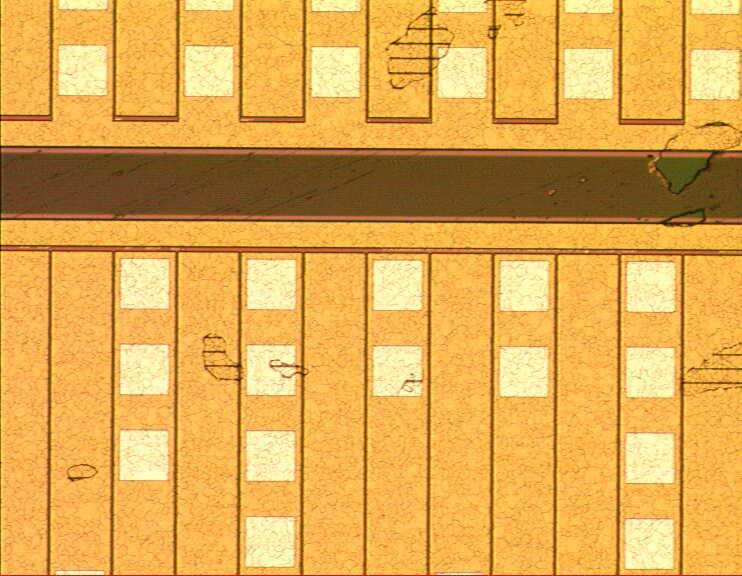SCRATCH: (7, 1, 742, 498)
